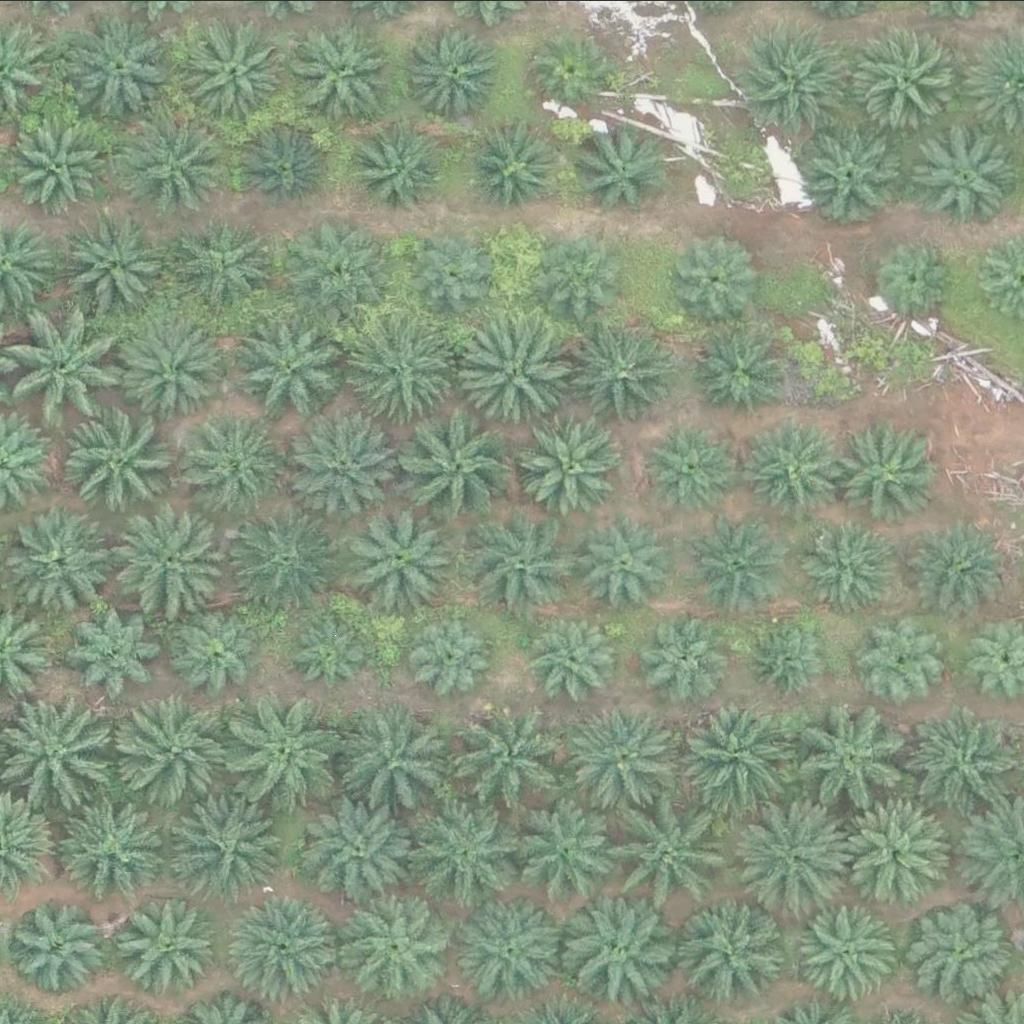Kelapa_Sawit: (744, 794, 858, 907), (10, 506, 124, 619), (167, 788, 281, 901), (566, 696, 679, 809), (685, 700, 798, 813), (801, 707, 914, 820), (570, 900, 683, 1013), (116, 313, 229, 426), (233, 309, 346, 422), (349, 316, 462, 429), (63, 403, 176, 516), (122, 689, 235, 802), (303, 795, 416, 908), (57, 788, 170, 901), (229, 889, 342, 1002), (56, 9, 170, 121), (515, 400, 629, 512), (227, 695, 341, 807), (744, 27, 857, 139), (576, 314, 689, 426), (839, 795, 952, 907), (614, 788, 727, 900), (675, 903, 788, 1015), (119, 111, 232, 223), (63, 205, 176, 317), (12, 312, 125, 424), (462, 310, 575, 422), (394, 409, 507, 521), (285, 413, 398, 525), (124, 499, 237, 611), (226, 500, 339, 612), (345, 499, 458, 611), (466, 510, 579, 622), (5, 693, 118, 805), (337, 704, 450, 816), (447, 699, 560, 811), (502, 797, 615, 909), (411, 798, 524, 910), (458, 891, 571, 1003), (747, 417, 848, 517), (839, 421, 940, 521), (795, 516, 896, 616), (904, 515, 1005, 615), (801, 901, 902, 1001), (913, 901, 1014, 1001), (406, 22, 507, 122), (574, 116, 675, 216), (294, 222, 395, 322), (190, 410, 291, 510), (67, 599, 168, 699), (12, 899, 113, 999), (116, 891, 217, 991), (353, 895, 454, 995), (845, 29, 945, 129), (801, 121, 901, 221), (569, 509, 669, 609), (698, 514, 798, 614), (192, 19, 292, 119), (296, 22, 396, 122), (12, 117, 112, 217), (180, 212, 280, 312), (676, 235, 764, 323), (643, 423, 731, 511), (853, 611, 941, 699), (238, 119, 326, 207), (475, 122, 563, 210), (871, 233, 959, 320), (699, 328, 787, 415), (745, 614, 833, 701), (640, 614, 728, 701), (355, 128, 443, 215), (410, 227, 498, 314), (526, 231, 614, 318), (528, 611, 616, 698), (404, 611, 492, 698), (171, 600, 259, 687), (294, 614, 370, 689), (529, 29, 605, 104)
